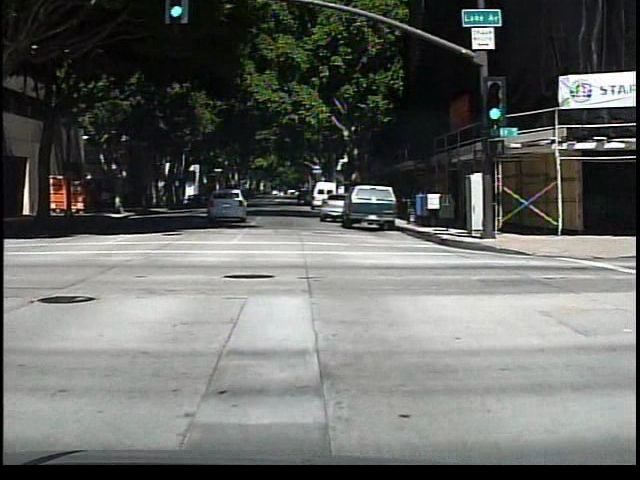person: (96, 183, 112, 218)
